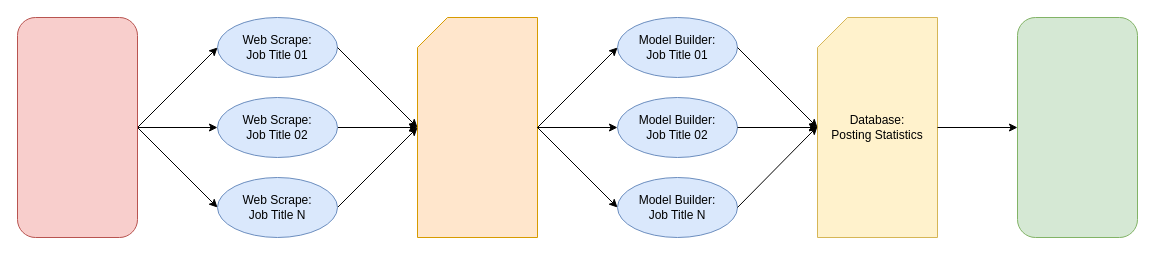
Some shapes in this 1155 by 255 pixel diagram are drawn without their labels. The box of each missing label's shape, as (x1, y1, x2, y2) in pixels:
Database: Job Posting Texts: (416, 16, 538, 238)
Job Board: (16, 16, 138, 238)
Web Server: Display Statistics: (1016, 16, 1138, 238)
